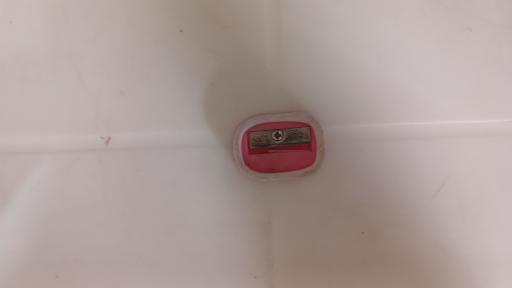Sharpener: (233, 116, 323, 180)
